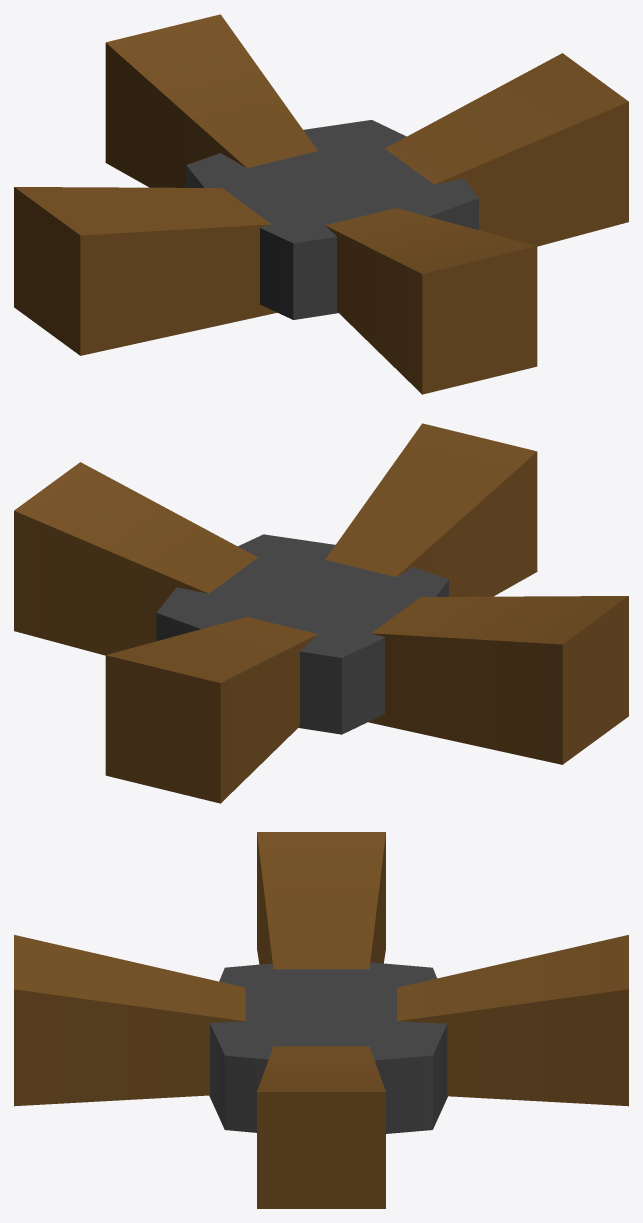
File: fire.fbx
The picture shows the model from 3 angles, top to bottom: view 1: azimuth 30°, elevation 25°; view 2: azimuth 150°, elevation 25°; view 3: azimuth 270°, elevation 25°; orthographic projection. The views are drawn at different scales.
Visible parts, largest first — view 1: Cube128; view 2: Cube128; view 3: Cube128.
Boxes of the visible parts, <box> form: Cube128: <box>14,14,628,394</box>; Cube128: <box>14,423,628,803</box>; Cube128: <box>14,832,628,1208</box>.
Size of the model in its own units: 953 by 231 by 953.
